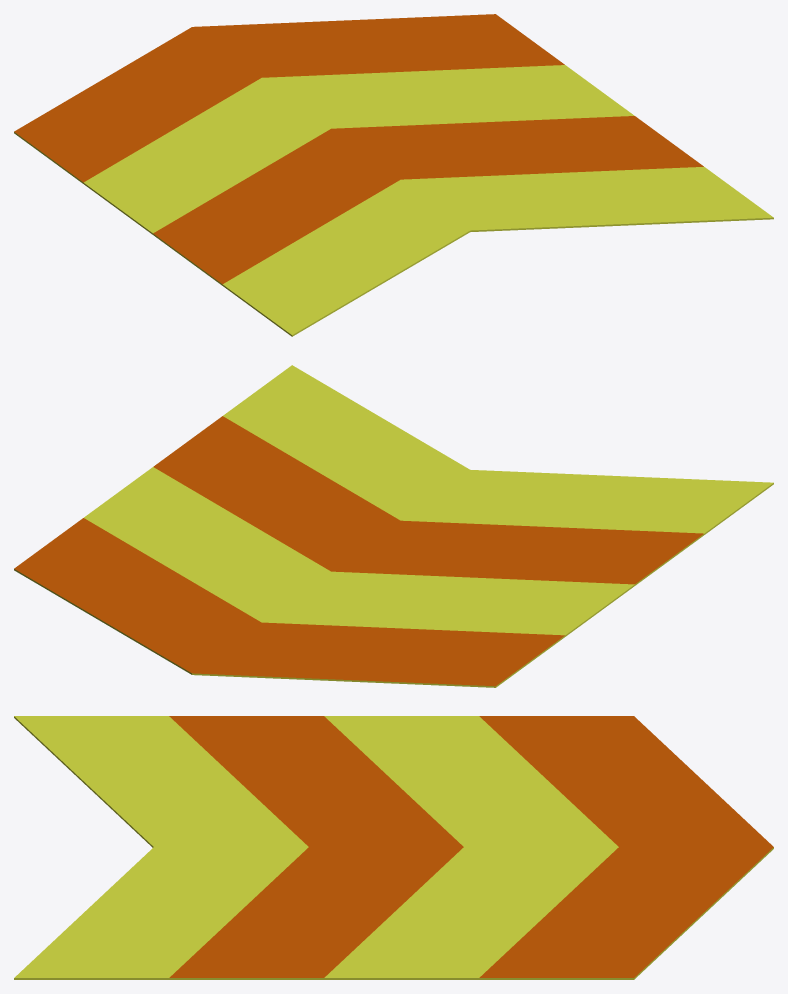
Rendered from boost.fbx.
The picture shows the model from 3 angles, top to bottom: view 1: azimuth 30°, elevation 25°; view 2: azimuth 150°, elevation 25°; view 3: azimuth 270°, elevation 25°; orthographic projection. The views are drawn at different scales.
Parts seen in each view (by area): view 1: Cube.001; view 2: Cube.001; view 3: Cube.001.
Boxes of the visible parts, box(x1,y1,x2,y2) form: Cube.001: box(14, 14, 773, 336); Cube.001: box(14, 365, 773, 687); Cube.001: box(14, 716, 773, 979).
Bounding box in the file's own units: 2 × 0.00649 × 2.45.
